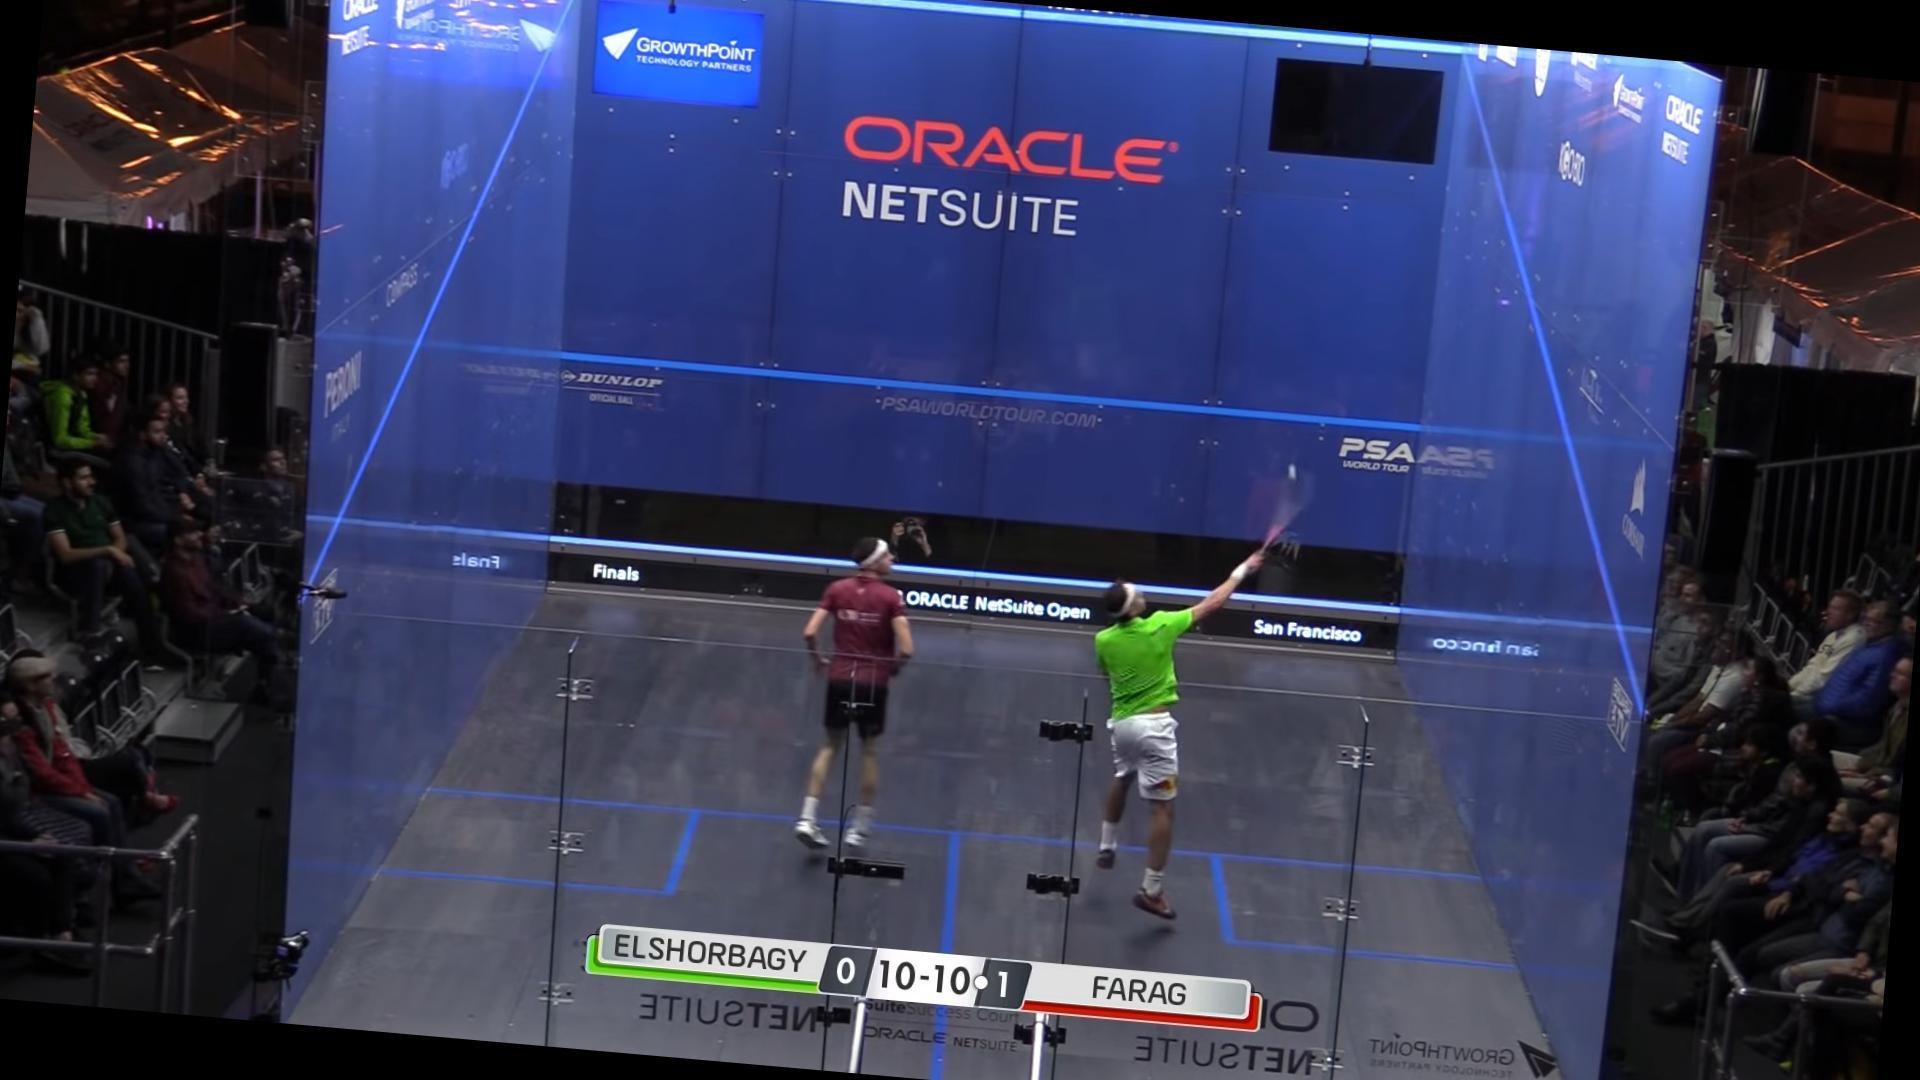Squash-Ball: (1280, 460, 1309, 481)
